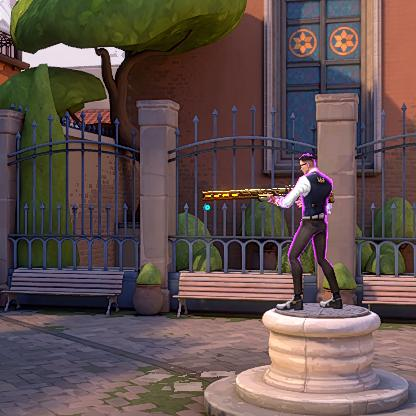enemyBody: (303, 178, 326, 215)
enemyHead: (301, 158, 314, 171)
